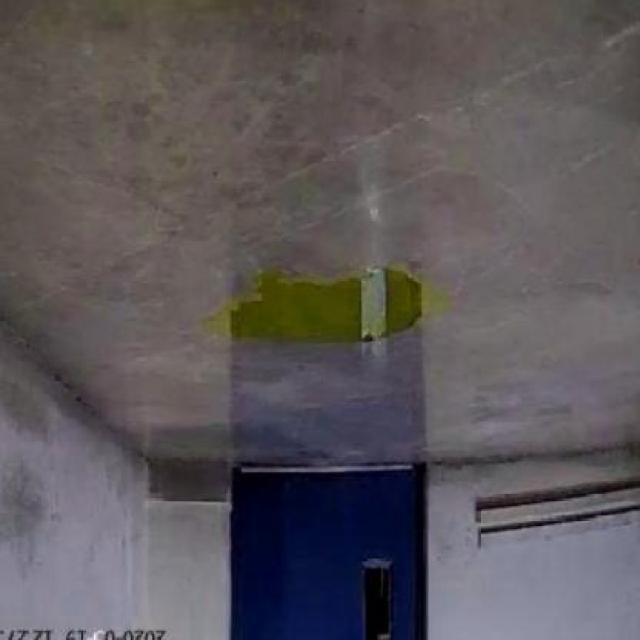spillage: (211, 268, 420, 343)
